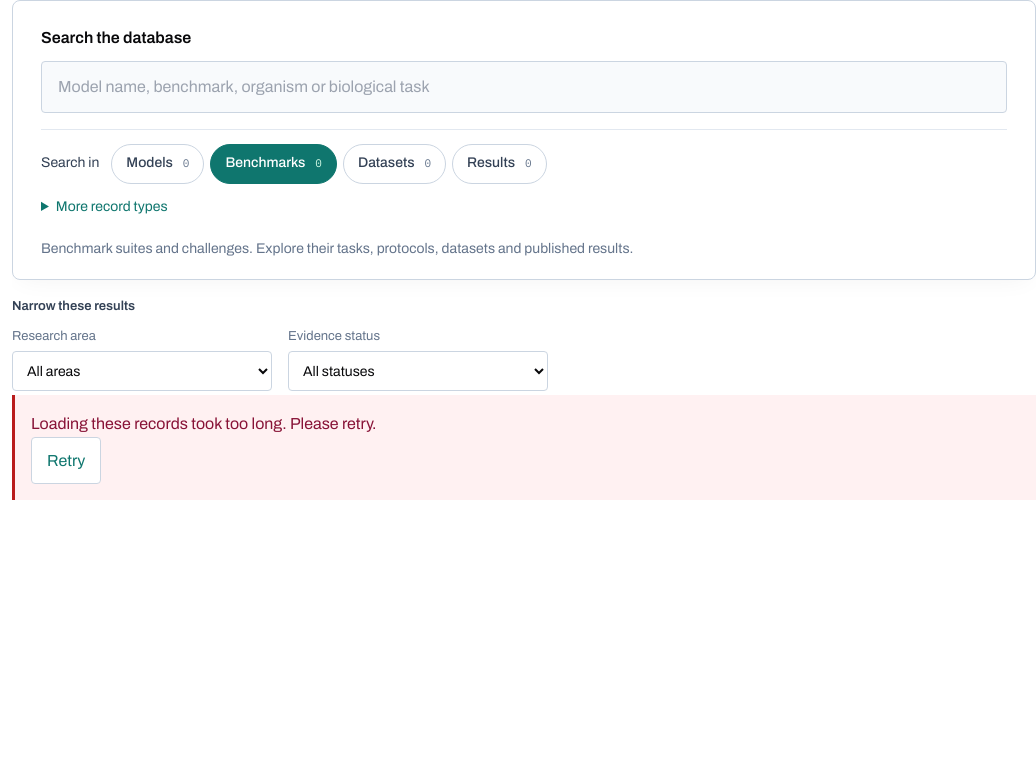
Test case: requested catalogue results › aborts a stalled request, permits retry and ignores its late response
The image size is (1036, 768).
Click the button "Retry" at (66, 461), box [31,437,101,484]
Wait 200 ms
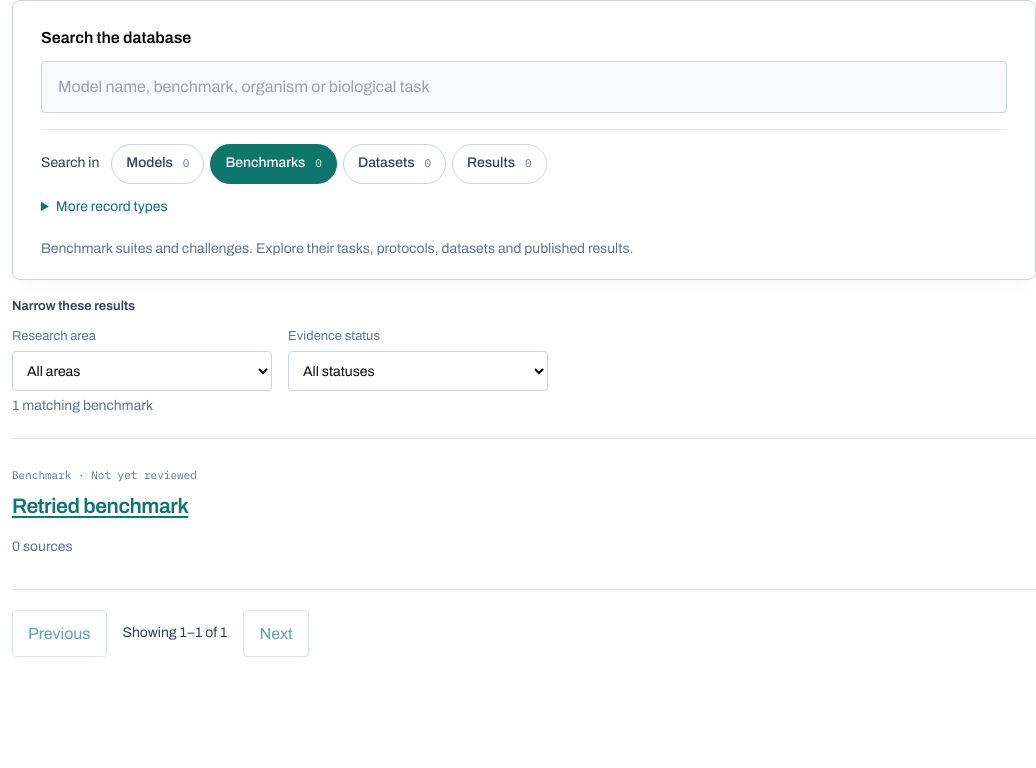
Expected: the text "Retried benchmark" is shown, [12,495,188,517]
